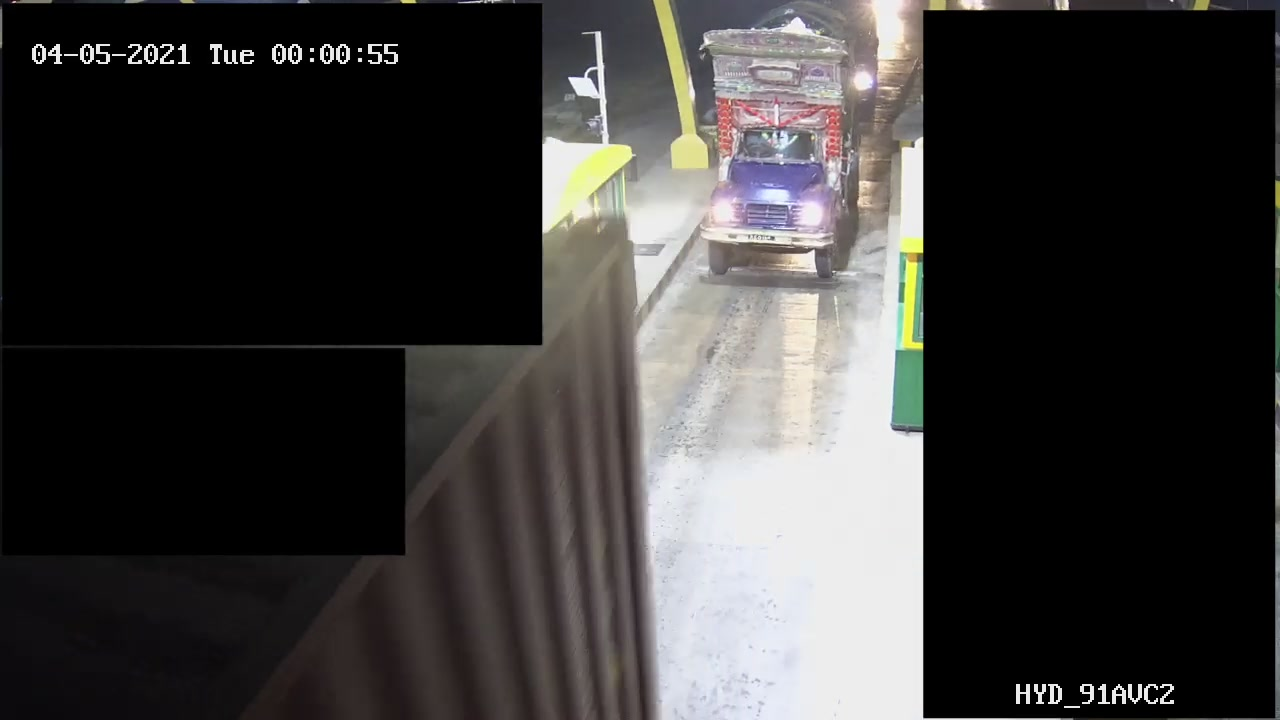F5: (684, 1, 860, 282)
